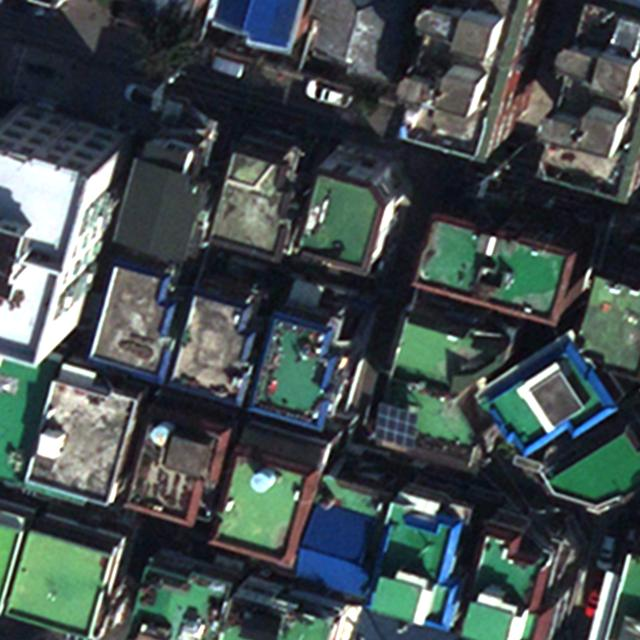panel: (375, 400, 419, 447)
